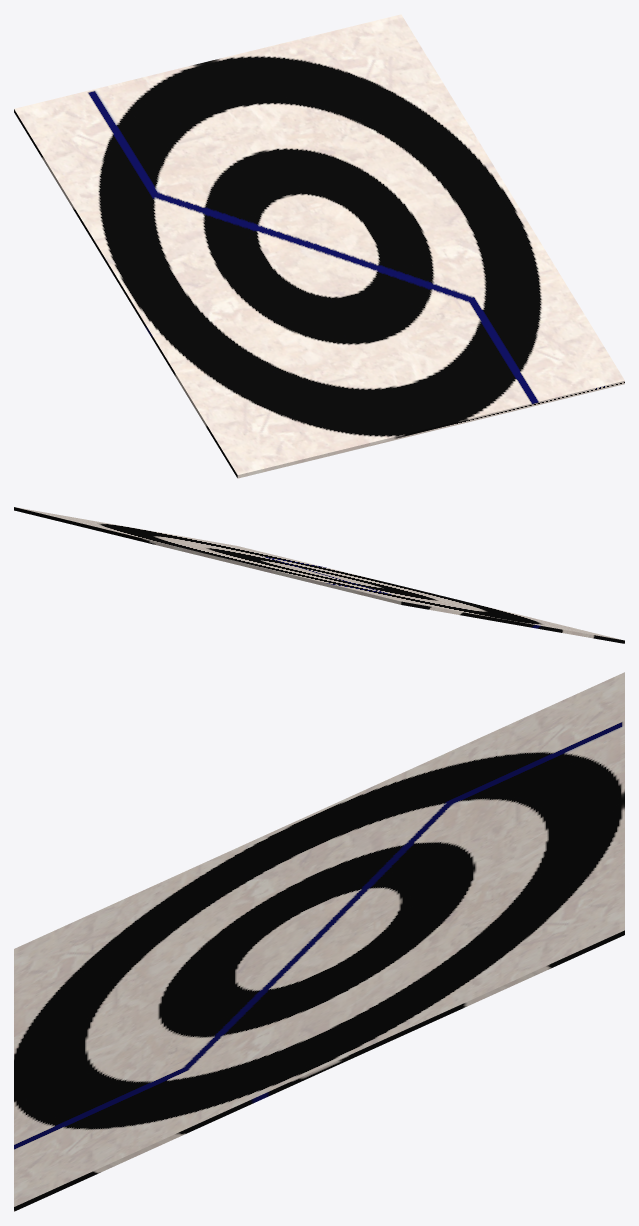
The model's file is simple_elev_ramp_rc22.dae.
3 renders of one model, top to bottom at view 1: azimuth 30°, elevation 25°; view 2: azimuth 150°, elevation 25°; view 3: azimuth 270°, elevation 25°, orthographic. The views are drawn at different scales.
Visible parts, largest first — view 1: Cube_001; view 2: Cube_001; view 3: Cube_001.
Boxes of the visible parts, x1,y1,x2,y2 form: Cube_001: [14, 14, 624, 478]; Cube_001: [14, 507, 624, 643]; Cube_001: [14, 672, 624, 1211].
Bounding box in the file's own units: 2.36 × 2.36 × 1.2.
1 material, 1 textured.
